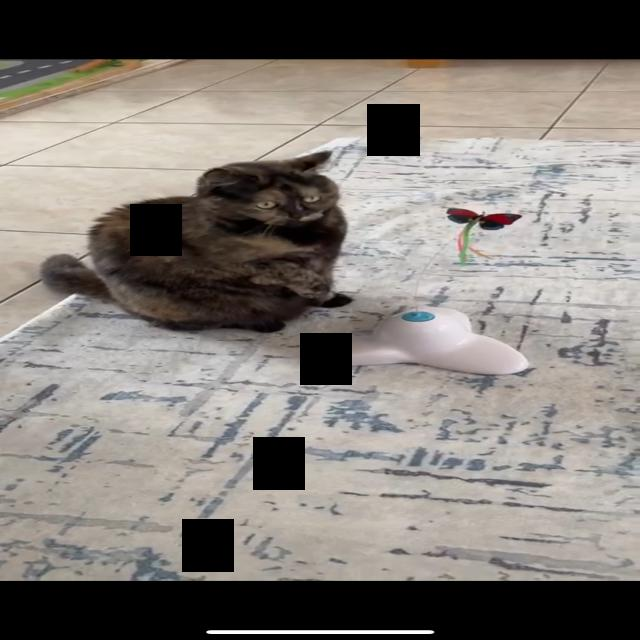authorized: (38, 150, 354, 333)
